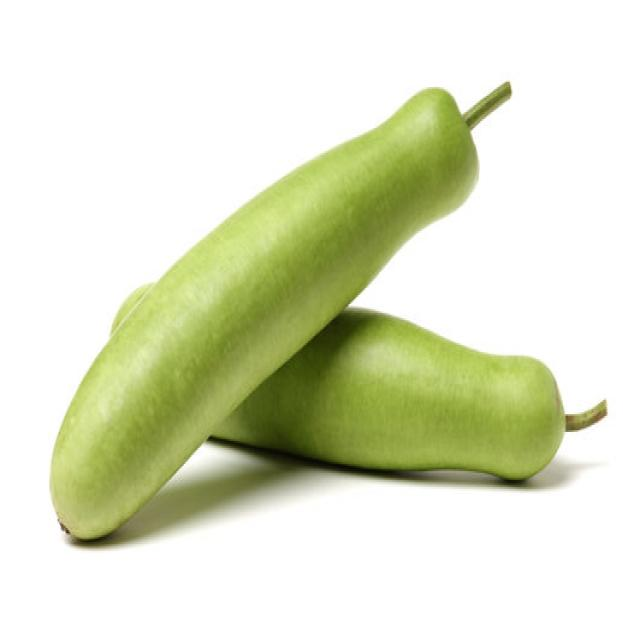Bottle Gourd: (48, 78, 513, 540), (207, 304, 607, 482)
